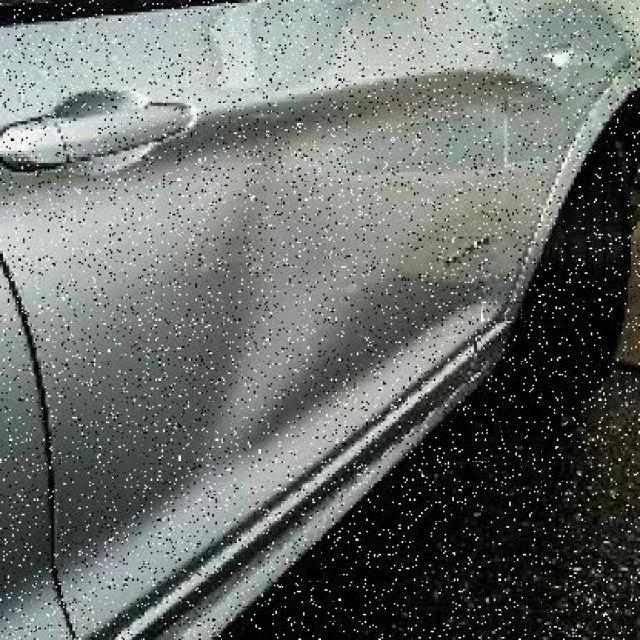car damage: (144, 73, 589, 535), (545, 22, 592, 64)
